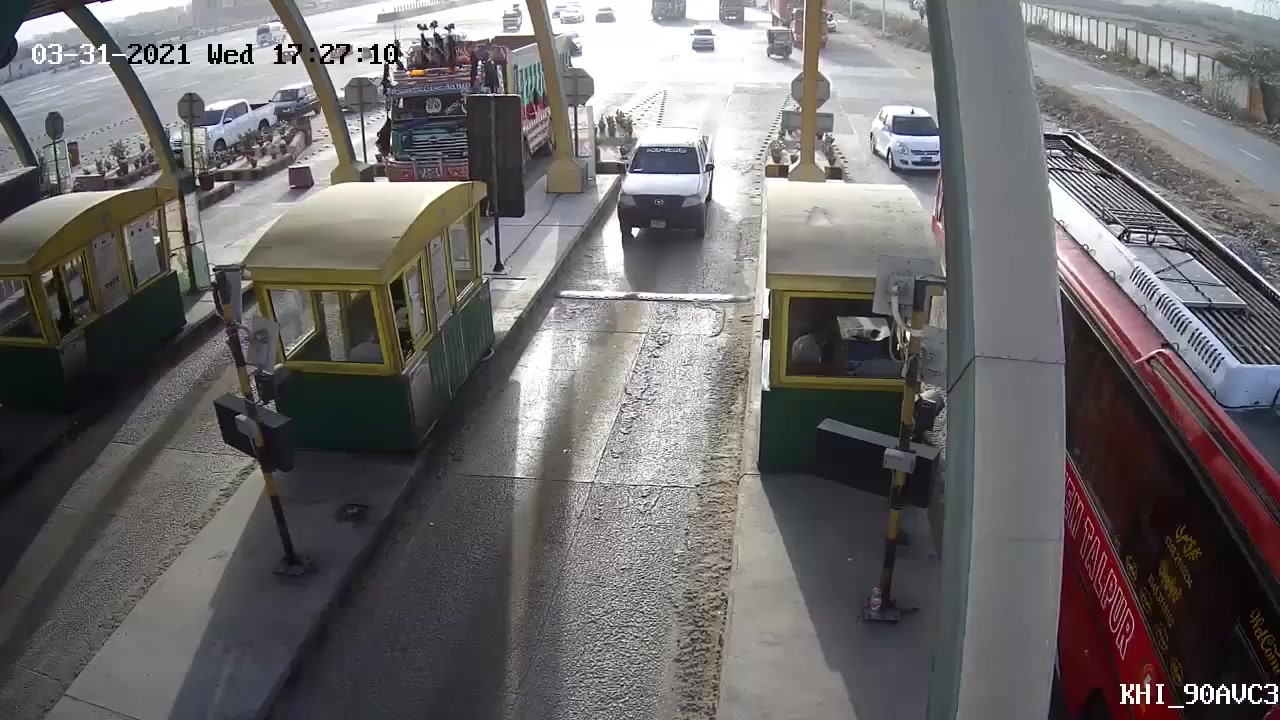F1: (598, 122, 724, 260)
